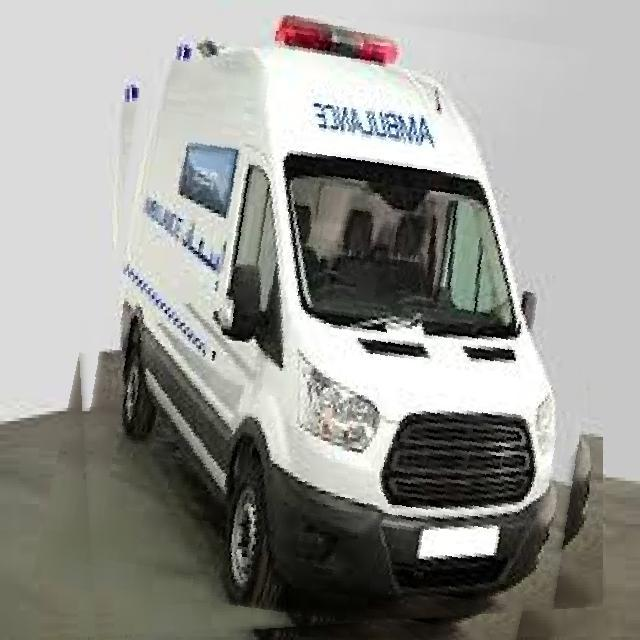ambulance: (59, 15, 603, 640)
